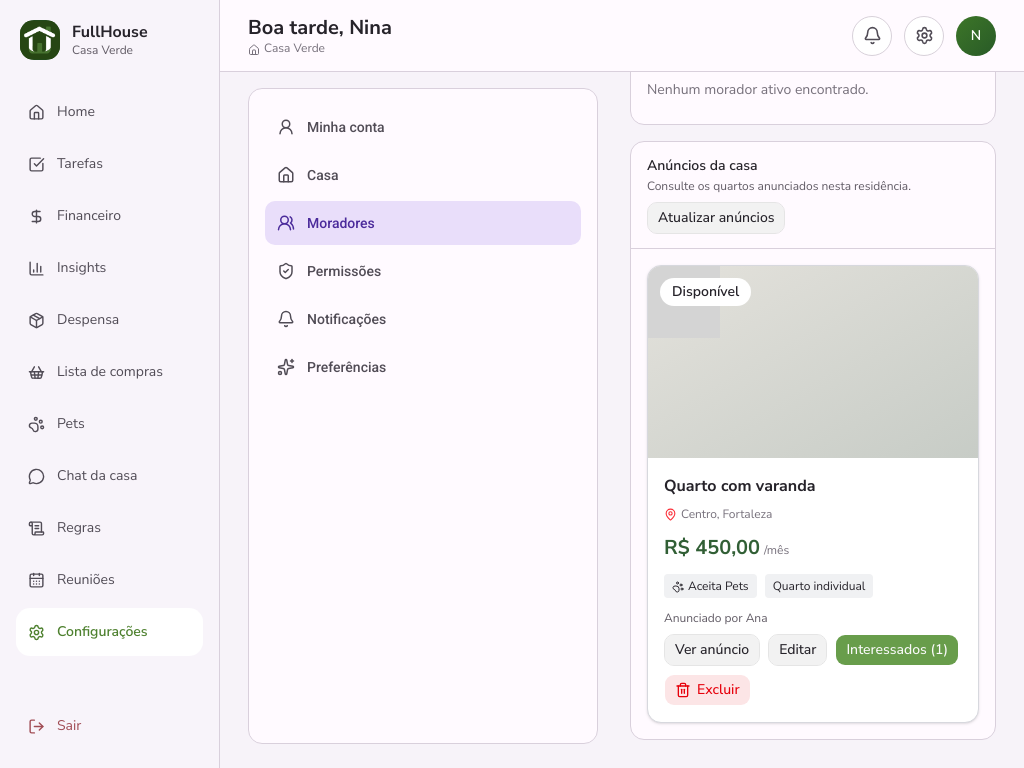
Test: Anúncios da casa em Moradores › shows the public preview and saves an edit while preserving photos and privacy settings
(page scrolled)
Check: the text "Disponível" is shown, box [660, 278, 751, 306]
Check: the text "Aceita Pets" is shown, box [664, 574, 757, 598]
Step 1. Click the button "Ver anúncio" → click(712, 650), box [664, 634, 760, 666]
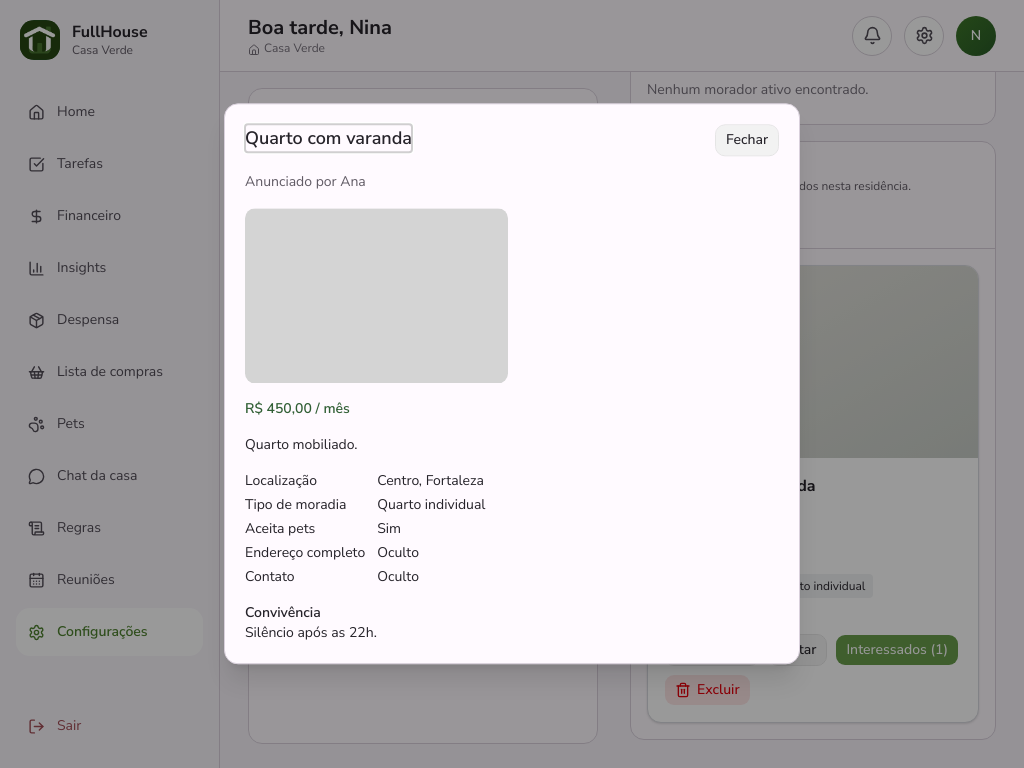
Check: the text "Rua oculta" is not shown
Check: the text "Oculto" is shown 2 times, box [377, 544, 419, 563]; [377, 568, 419, 587]
Step 2. Click the button "Fechar" → click(747, 140), box [715, 124, 779, 156]
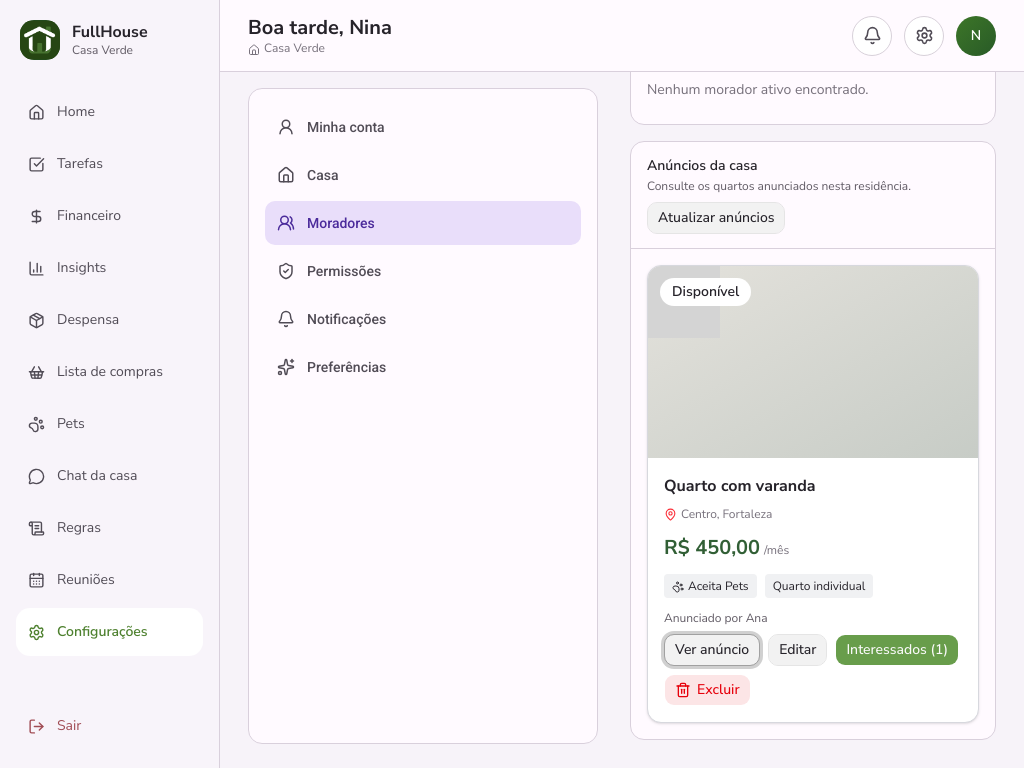
Step 3. Click the button "Editar" → click(798, 650), box [768, 634, 828, 666]
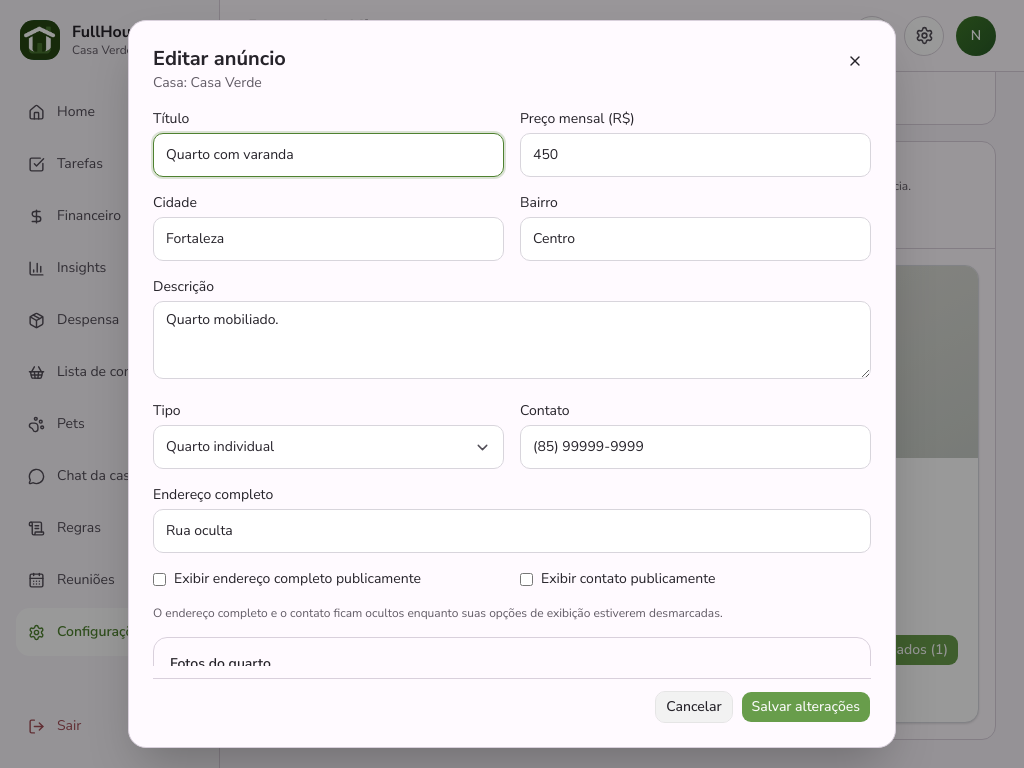
Step 4. Replace the text in the field labelled "Título" with "Quarto reformado" → (328, 155), box [153, 133, 504, 177]
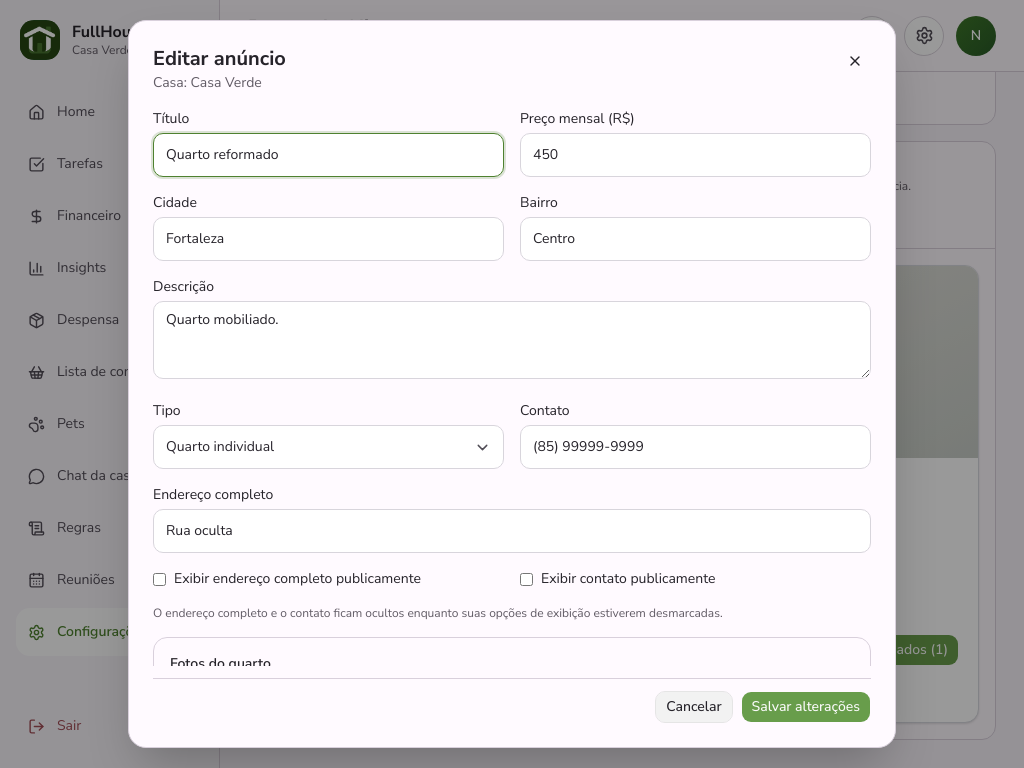
Step 5. Click the button "Salvar alterações" → click(806, 707), box [741, 691, 871, 723]
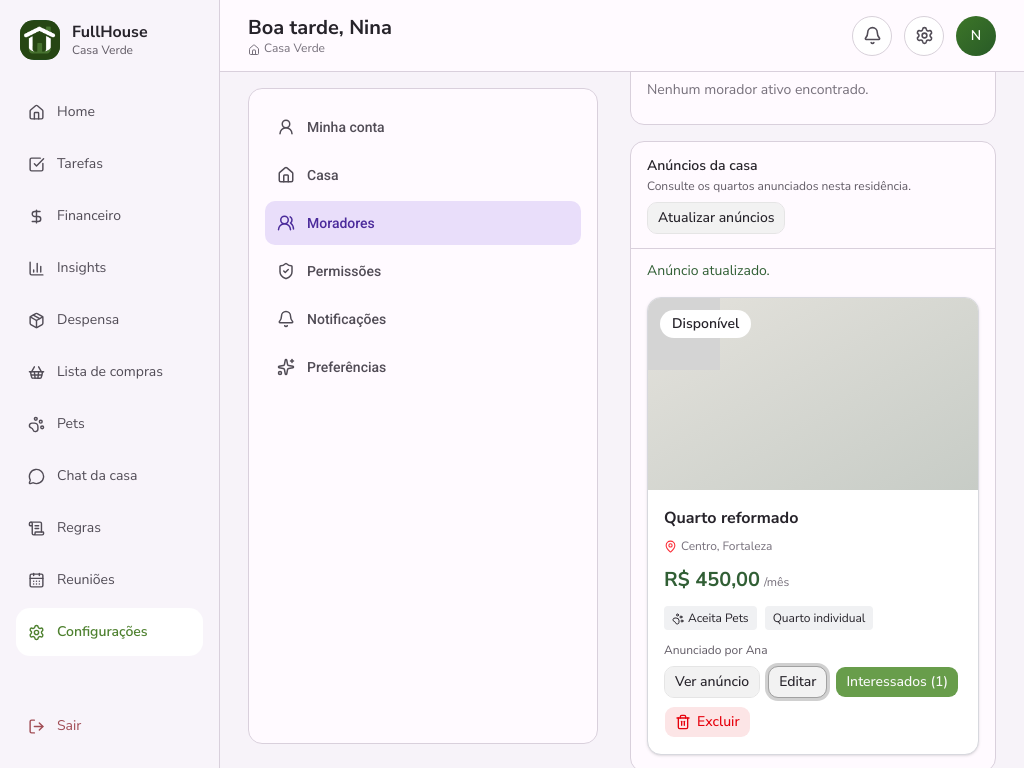
Check: the heading "Quarto reformado" is shown, box [664, 507, 798, 529]
